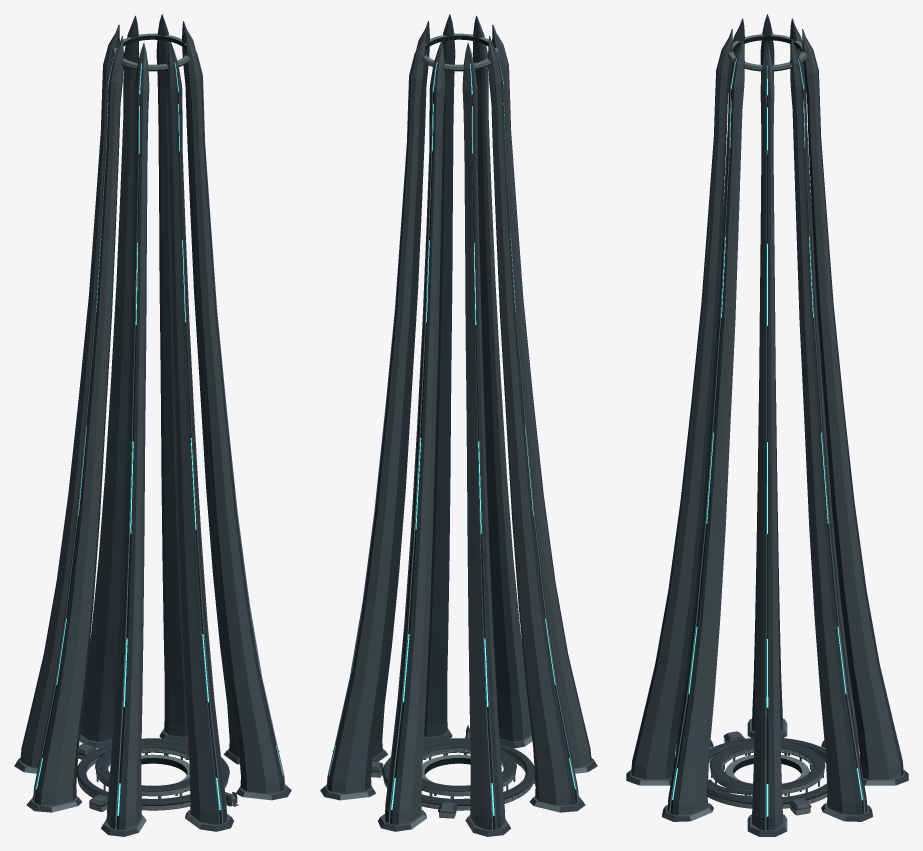
File: Surface_Spire_and_Facility_Godot.glb
The picture shows the model from 3 angles, left to right: view 1: azimuth 30°, elevation 25°; view 2: azimuth 150°, elevation 25°; view 3: azimuth 270°, elevation 25°; orthographic projection.
Parts seen in each view (by area): view 1: Arm_05_Faceted_Monolith, Arm_08_Faceted_Monolith, Arm_07_Faceted_Monolith, Arm_06_Faceted_Monolith, Arm_03_Faceted_Monolith, Arm_02_Faceted_Monolith, Arm_04_Faceted_Monolith, Arm_01_Faceted_Monolith, Ring_Faceted_Removable_Ceiling_Hull, Gallery_Removable_Faceted_Ceiling_Hull, Crown_Open_Annular_Focus, Arm_06_Recessed_Teal_Channels (+2 smaller); view 2: Arm_05_Faceted_Monolith, Arm_02_Faceted_Monolith, Arm_03_Faceted_Monolith, Arm_04_Faceted_Monolith, Arm_07_Faceted_Monolith, Arm_08_Faceted_Monolith, Arm_06_Faceted_Monolith, Arm_01_Faceted_Monolith, Ring_Faceted_Removable_Ceiling_Hull, Gallery_Removable_Faceted_Ceiling_Hull, Crown_Open_Annular_Focus, Arm_04_Recessed_Teal_Channels (+2 smaller); view 3: Arm_03_Faceted_Monolith, Arm_07_Faceted_Monolith, Arm_02_Faceted_Monolith, Arm_08_Faceted_Monolith, Arm_01_Faceted_Monolith, Arm_05_Faceted_Monolith, Arm_04_Faceted_Monolith, Arm_06_Faceted_Monolith, Gallery_Removable_Faceted_Ceiling_Hull, Ring_Faceted_Removable_Ceiling_Hull, Crown_Open_Annular_Focus, Ground_Throat_150m_Clear.
Boxes of the visible parts, x1,y1,x2,y2 form: Arm_05_Faceted_Monolith: (33,36,123,805); Arm_08_Faceted_Monolith: (186,32,285,793); Arm_07_Faceted_Monolith: (166,41,226,824); Arm_06_Faceted_Monolith: (106,43,149,829); Arm_03_Faceted_Monolith: (80,15,139,741); Arm_02_Faceted_Monolith: (156,14,187,736); Arm_04_Faceted_Monolith: (20,24,119,767); Arm_01_Faceted_Monolith: (182,21,239,757); Ring_Faceted_Removable_Ceiling_Hull: (77,738,229,805); Gallery_Removable_Faceted_Ceiling_Hull: (95,742,189,791); Crown_Open_Annular_Focus: (112,33,190,71); Arm_06_Recessed_Teal_Channels: (117,63,141,815); Arm_05_Faceted_Monolith: (488,36,578,805); Arm_02_Faceted_Monolith: (326,32,425,793); Arm_03_Faceted_Monolith: (385,41,445,824); Arm_04_Faceted_Monolith: (462,43,505,829); Arm_07_Faceted_Monolith: (472,15,531,741); Arm_08_Faceted_Monolith: (424,14,455,736); Arm_06_Faceted_Monolith: (492,24,591,767); Arm_01_Faceted_Monolith: (372,21,429,757); Ring_Faceted_Removable_Ceiling_Hull: (382,738,534,805); Gallery_Removable_Faceted_Ceiling_Hull: (422,742,516,791); Crown_Open_Annular_Focus: (421,33,499,71); Arm_04_Recessed_Teal_Channels: (470,63,494,815); Arm_03_Faceted_Monolith: (802,29,903,779); Arm_07_Faceted_Monolith: (631,29,732,779); Arm_02_Faceted_Monolith: (790,39,867,815); Arm_08_Faceted_Monolith: (667,39,744,815); Arm_01_Faceted_Monolith: (752,44,782,830); Arm_05_Faceted_Monolith: (752,14,782,731); Arm_04_Faceted_Monolith: (790,18,858,743); Arm_06_Faceted_Monolith: (676,18,744,743); Gallery_Removable_Faceted_Ceiling_Hull: (709,742,825,789); Ring_Faceted_Removable_Ceiling_Hull: (707,738,827,804); Crown_Open_Annular_Focus: (727,34,807,71); Ground_Throat_150m_Clear: (725,755,809,781).
Bounding box in the file's own units: 616 × 1801 × 616.
